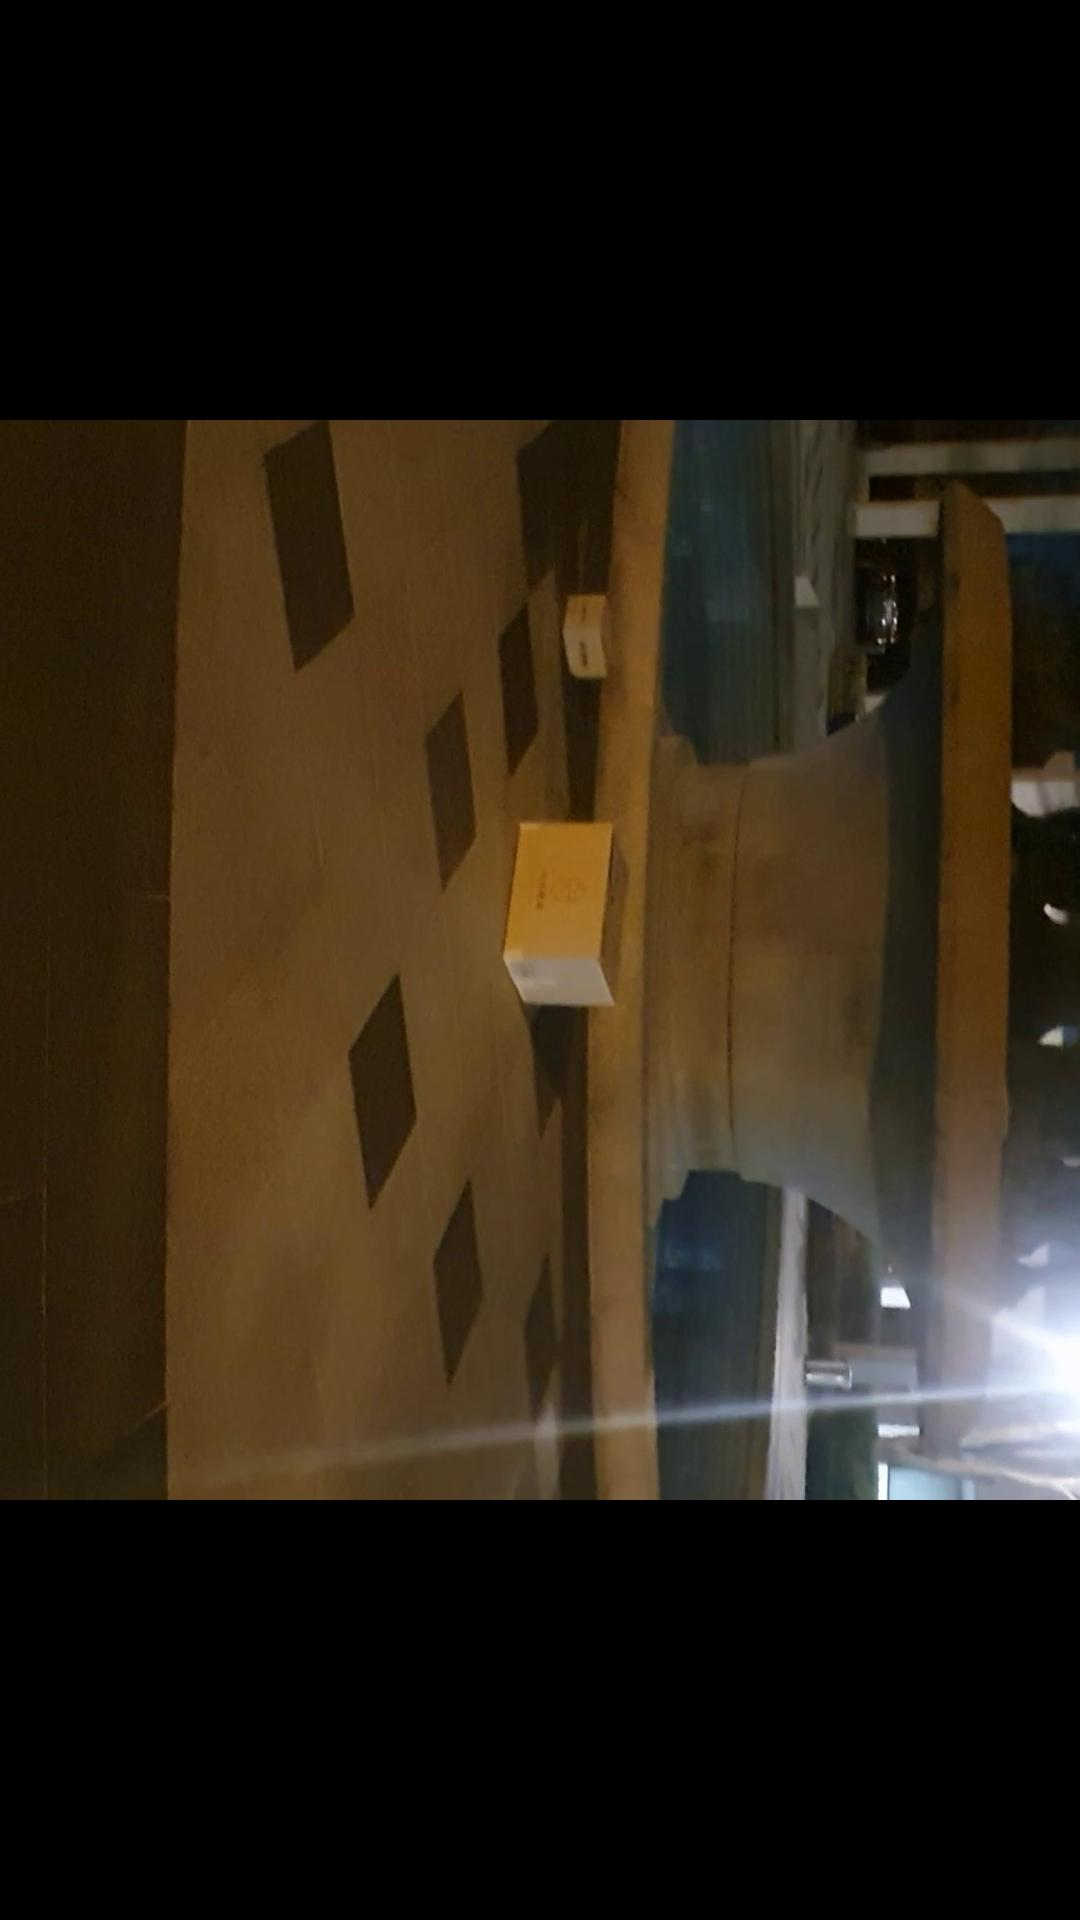Box: (500, 803, 632, 1022), (545, 578, 632, 700)
